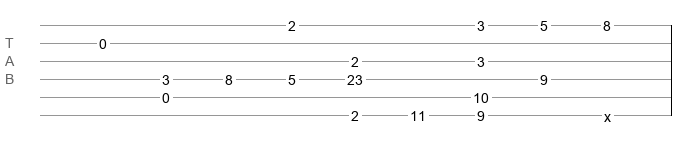0: (99, 36, 107, 46), (162, 90, 170, 100)
10: (473, 90, 489, 100)
11: (410, 108, 426, 118)
2: (288, 18, 296, 28), (351, 54, 359, 64), (351, 108, 359, 118)
23: (347, 72, 363, 82)
3: (162, 72, 170, 82), (477, 54, 485, 64), (477, 18, 485, 28)
5: (288, 72, 296, 82), (540, 18, 548, 28)
8: (225, 72, 233, 82), (603, 18, 611, 28)
9: (477, 108, 485, 118), (540, 72, 548, 82)
x: (604, 109, 611, 117)
